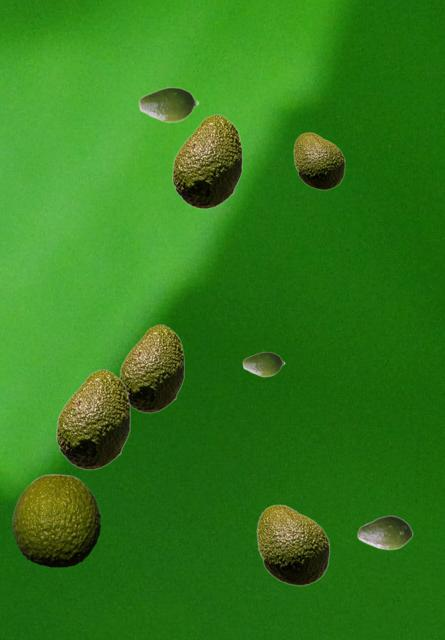avocado: (12, 474, 99, 566), (56, 369, 129, 469), (172, 114, 241, 208), (256, 504, 329, 585), (119, 324, 183, 412), (293, 132, 344, 189), (138, 86, 198, 122), (357, 515, 412, 549), (242, 351, 284, 376)
